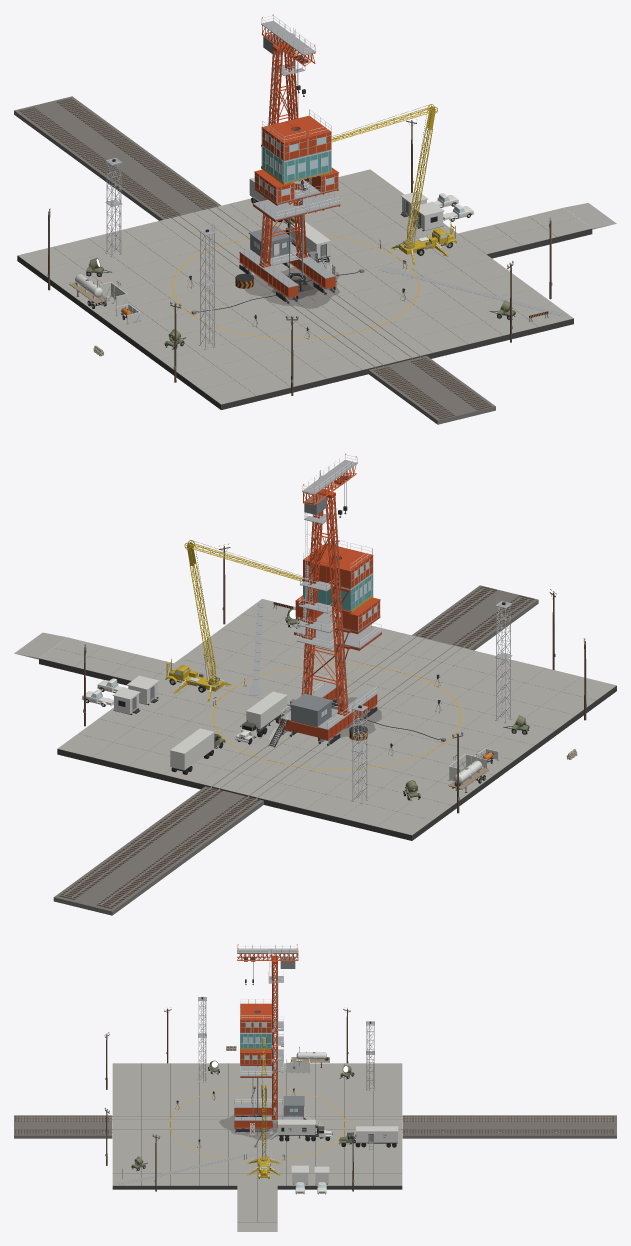
Rendered from pad.lod1.glb.
The picture shows the model from 3 angles, top to bottom: view 1: azimuth 30°, elevation 25°; view 2: azimuth 150°, elevation 25°; view 3: azimuth 270°, elevation 25°; orthographic projection. The views are drawn at different scales.
Visible parts, largest first — view 1: Hardstand_Concrete, Hardstand_Ballast, Hardstand_Tie, ServiceStructure_Red, Hardstand_Joint, Hardstand_Rail, ServiceStructure_Deck, ServiceStructure_Platform4_Left_Red, Hardstand_Stain, CameraTowers_Tower1_Galv, CameraTowers_Tower2_Galv, CherryPicker_Mast_Yellow (+14 smaller); view 2: Hardstand_Concrete, Hardstand_Ballast, ServiceStructure_Red, Hardstand_Tie, Hardstand_Joint, Hardstand_Rail, ServiceStructure_Deck, ServiceStructure_Grey, CameraTowers_Tower1_Galv, GroundEquipment_Trailer_TrailerVan, ServiceStructure_White, CameraTowers_Tower2_Galv (+11 smaller); view 3: Hardstand_Concrete, Hardstand_Ballast, Hardstand_Rail, ServiceStructure_Red, Hardstand_Tie, Hardstand_Joint, ServiceStructure_Deck, ServiceStructure_Grey, GroundEquipment_Trailer_TrailerVan, ServiceStructure_Platform4_Right_Red, GroundEquipment_TransferVan_TrailerTv, ServiceStructure_White (+6 smaller).
Part boxes in pixels (<box>): Hardstand_Concrete: <box>18,169,591,404</box>; Hardstand_Ballast: <box>14,96,495,424</box>; Hardstand_Tie: <box>19,98,491,419</box>; ServiceStructure_Red: <box>239,25,335,298</box>; Hardstand_Joint: <box>17,211,592,409</box>; Hardstand_Rail: <box>23,99,486,416</box>; ServiceStructure_Deck: <box>239,20,335,287</box>; ServiceStructure_Platform4_Left_Red: <box>261,121,307,160</box>; Hardstand_Stain: <box>244,266,339,308</box>; CameraTowers_Tower1_Galv: <box>199,228,215,349</box>; CameraTowers_Tower2_Galv: <box>105,158,122,257</box>; CherryPicker_Mast_Yellow: <box>407,104,437,240</box>; Hardstand_Concrete: <box>39,599,616,835</box>; Hardstand_Ballast: <box>53,585,538,915</box>; ServiceStructure_Red: <box>280,464,377,740</box>; Hardstand_Tie: <box>59,586,534,908</box>; Hardstand_Joint: <box>39,637,616,840</box>; Hardstand_Rail: <box>63,587,528,907</box>; ServiceStructure_Deck: <box>280,460,376,729</box>; ServiceStructure_Grey: <box>289,494,369,738</box>; CameraTowers_Tower1_Galv: <box>495,601,512,723</box>; GroundEquipment_Trailer_TrailerVan: <box>170,728,214,770</box>; ServiceStructure_White: <box>269,454,376,745</box>; CameraTowers_Tower2_Galv: <box>351,704,368,804</box>; Hardstand_Concrete: <box>112,1063,402,1222</box>; Hardstand_Ballast: <box>14,1115,616,1138</box>; Hardstand_Rail: <box>18,1116,612,1132</box>; ServiceStructure_Red: <box>234,950,298,1128</box>; Hardstand_Tie: <box>15,1116,613,1134</box>; Hardstand_Joint: <box>112,1063,402,1222</box>; ServiceStructure_Deck: <box>234,948,303,1135</box>; ServiceStructure_Grey: <box>273,957,304,1118</box>; GroundEquipment_Trailer_TrailerVan: <box>356,1126,398,1143</box>; ServiceStructure_Platform4_Right_Red: <box>240,1012,271,1032</box>; GroundEquipment_TransferVan_TrailerTv: <box>277,1119,315,1134</box>; ServiceStructure_White: <box>234,945,323,1127</box>.
Size of the model in its own units: 90.64 by 42.38 by 127.
